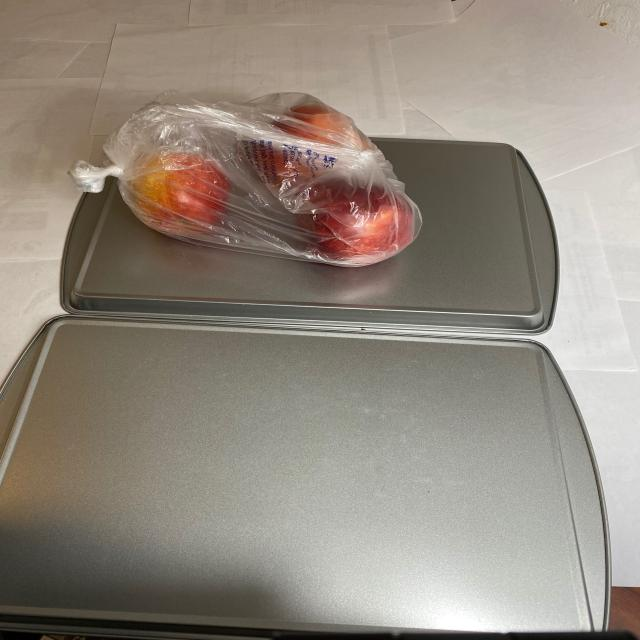apple: (103, 103, 419, 271)
